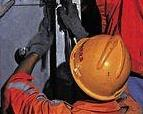gloves: (14, 16, 54, 65), (57, 0, 89, 40)
hard-hat: (0, 17, 36, 78)
ppe-suit: (0, 0, 2, 1)
